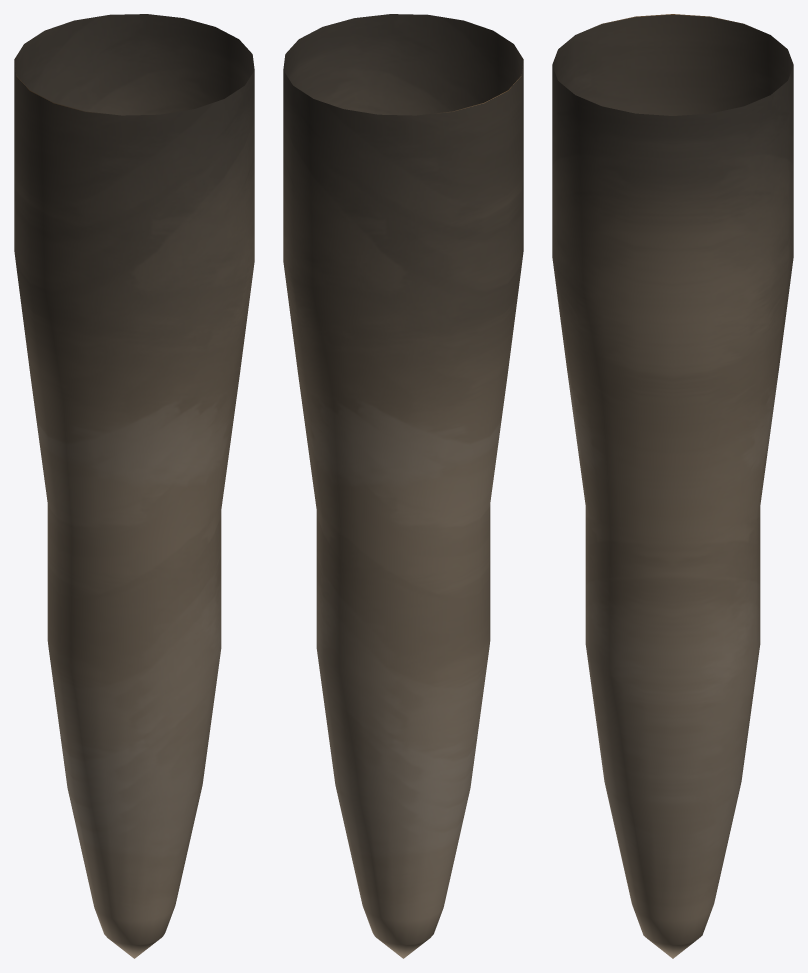
Rendered from stalagtiet D.fbx.
3 renders of one model, left to right at view 1: azimuth 30°, elevation 25°; view 2: azimuth 150°, elevation 25°; view 3: azimuth 270°, elevation 25°, orthographic.
Visible parts, largest first — view 1: Stalagtiet_c; view 2: Stalagtiet_c; view 3: Stalagtiet_c.
Boxes of the visible parts, bbox=[...] form: Stalagtiet_c: bbox=[14, 14, 254, 958]; Stalagtiet_c: bbox=[283, 14, 523, 958]; Stalagtiet_c: bbox=[552, 14, 793, 958].
Bounding box in the file's own units: 21.31 × 87 × 21.31.
Materials: 1 (1 with a texture image).
